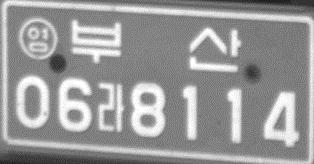0: (14, 74, 50, 130)
1: (214, 87, 252, 145), (172, 83, 208, 141)
4: (263, 90, 300, 148)
6: (57, 76, 92, 133)
8: (129, 81, 166, 140)
라: (96, 82, 125, 133)
부산_D: (70, 18, 241, 73)
영: (17, 16, 58, 60)
